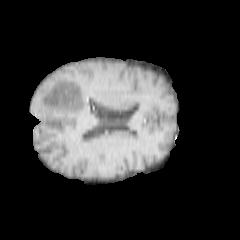glioma: (37, 79, 107, 126)
